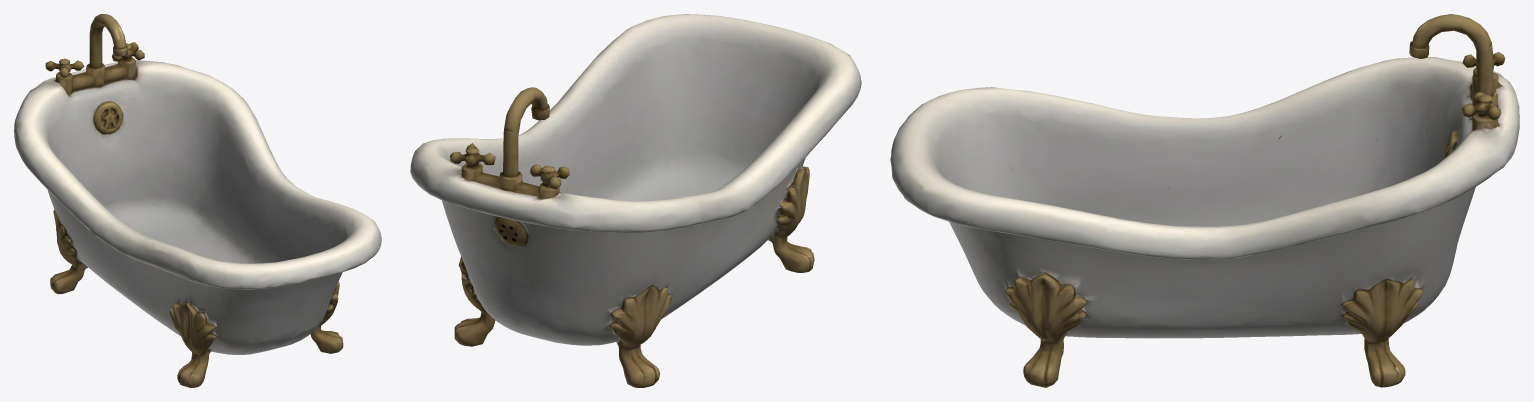
File: banadera.glb
3 views of the same model, side by side, from view 1: azimuth 30°, elevation 25°; view 2: azimuth 150°, elevation 25°; view 3: azimuth 270°, elevation 25° (orthographic). The views are drawn at different scales.
Visible parts, largest first — view 1: tripo_node_f0a1a97e-4338-408b-bae4-66b025b7217e; view 2: tripo_node_f0a1a97e-4338-408b-bae4-66b025b7217e; view 3: tripo_node_f0a1a97e-4338-408b-bae4-66b025b7217e.
Part boxes in pixels (left/top/right/bottom): tripo_node_f0a1a97e-4338-408b-bae4-66b025b7217e: left=14, top=14, right=381, bottom=387; tripo_node_f0a1a97e-4338-408b-bae4-66b025b7217e: left=410, top=14, right=861, bottom=387; tripo_node_f0a1a97e-4338-408b-bae4-66b025b7217e: left=890, top=14, right=1519, bottom=387.
Bounding box in the file's own units: 0.5472 × 0.563 × 1.
Materials: 1 (1 with a texture image).
